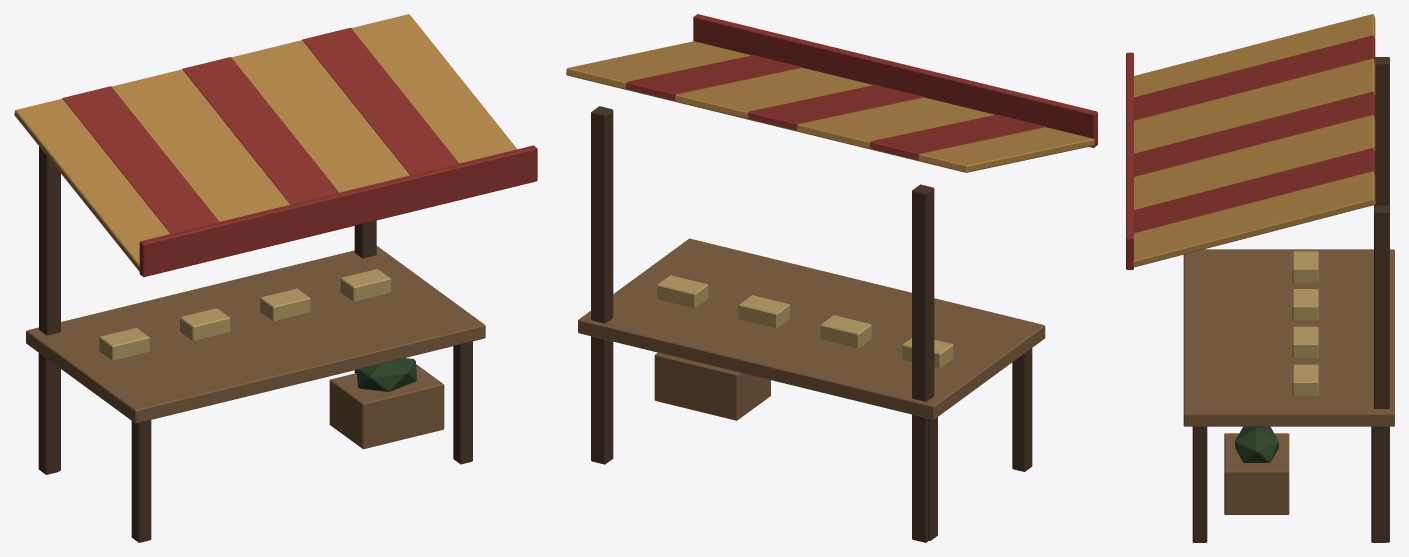
The model's file is V_Etal.glb.
The picture shows the model from 3 angles, left to right: view 1: azimuth 30°, elevation 25°; view 2: azimuth 150°, elevation 25°; view 3: azimuth 270°, elevation 25°; orthographic projection. The views are drawn at different scales.
Visible parts, largest first — view 1: V_Etal; view 2: V_Etal; view 3: V_Etal.
Part boxes in pixels (<box>): V_Etal: <box>14,14,537,542</box>; V_Etal: <box>566,14,1097,542</box>; V_Etal: <box>1126,14,1394,542</box>.
Bounding box in the file's own units: 2.7 × 2.44 × 1.65.
